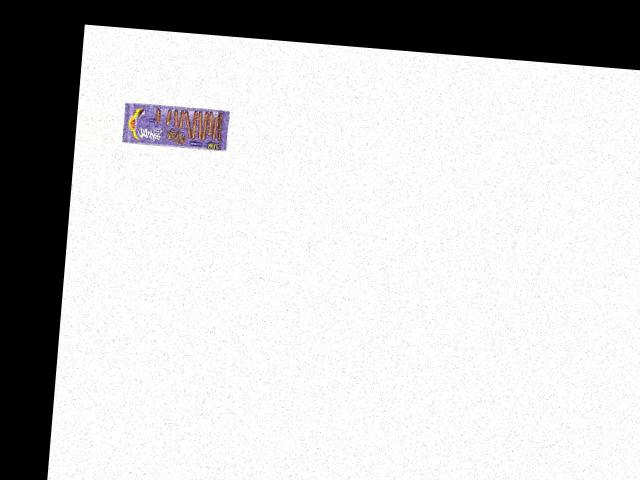chocolate: (120, 96, 232, 152)
